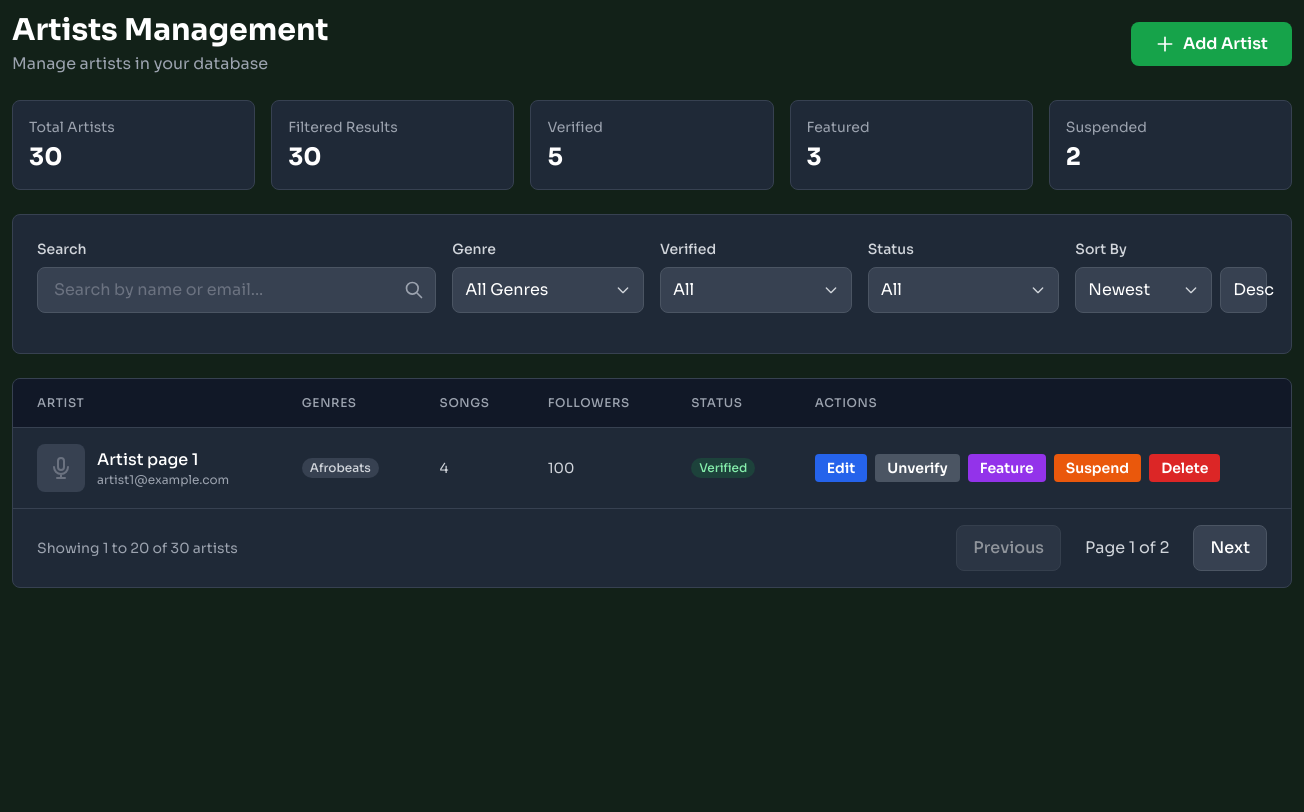
ArtistsManager › sends search and genre filters to the server
In the field with placeholder "Search by name or email...": (237, 290) [37, 267, 436, 313], type "burna"
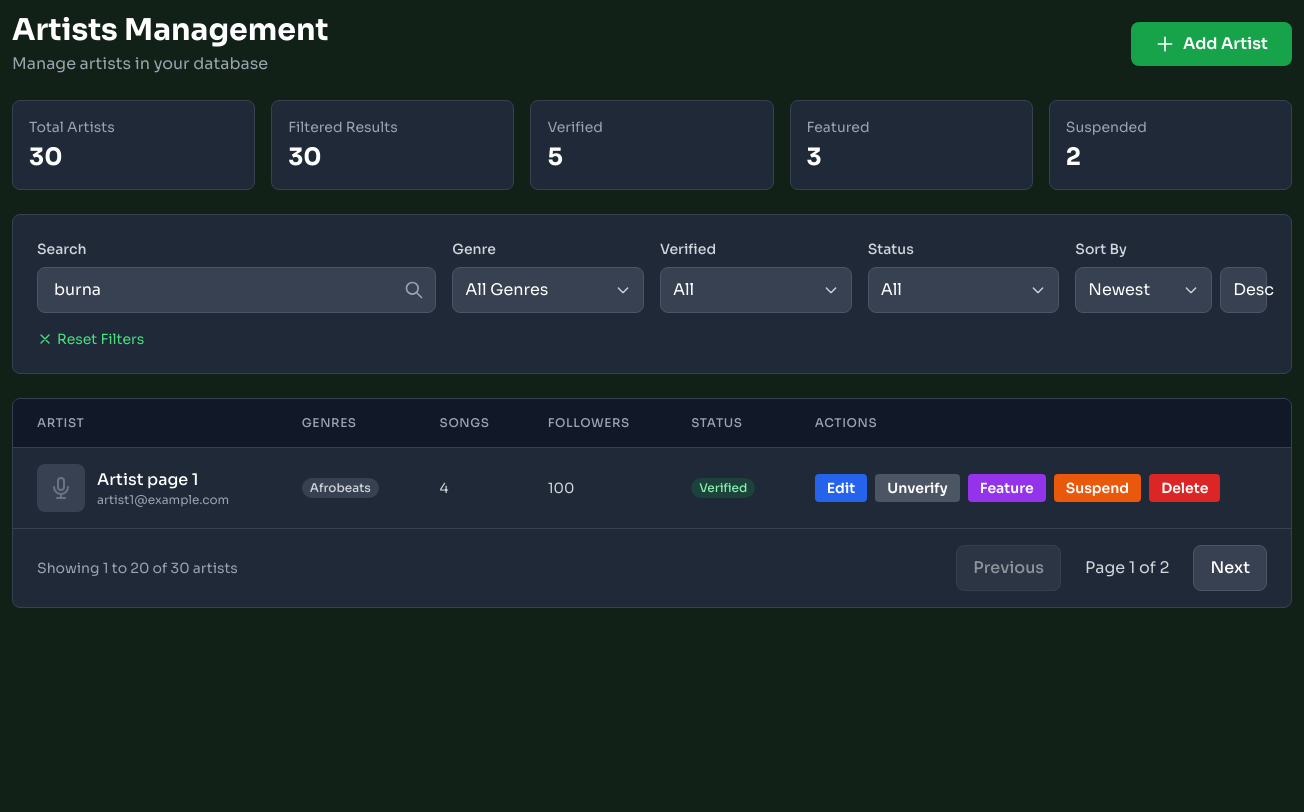
Select "Afrobeats" in the dropdown labelled "Genre": (548, 290) [452, 267, 644, 313]
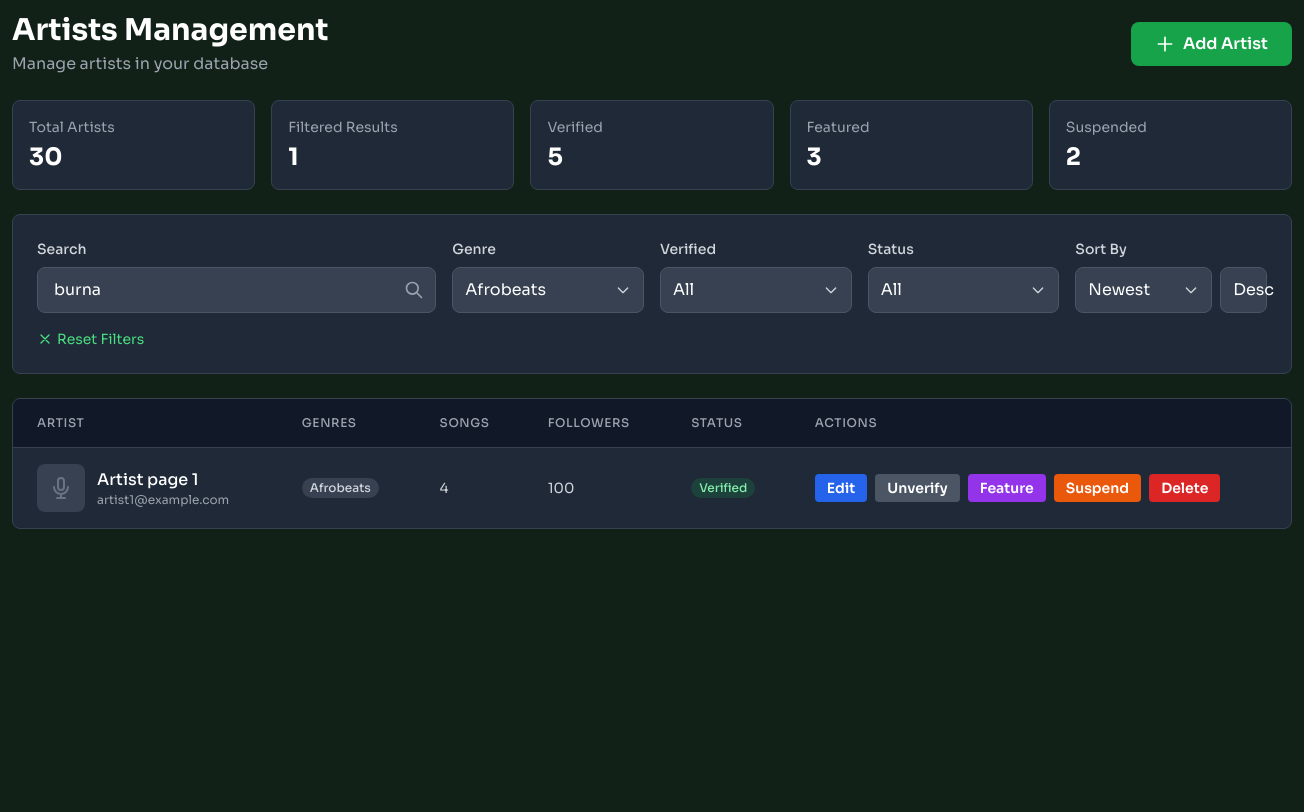
Result: the text "1" is shown at [288, 142, 298, 172]
